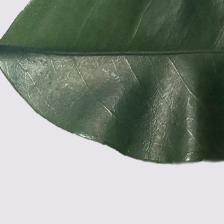healthy: (0, 3, 224, 138)
